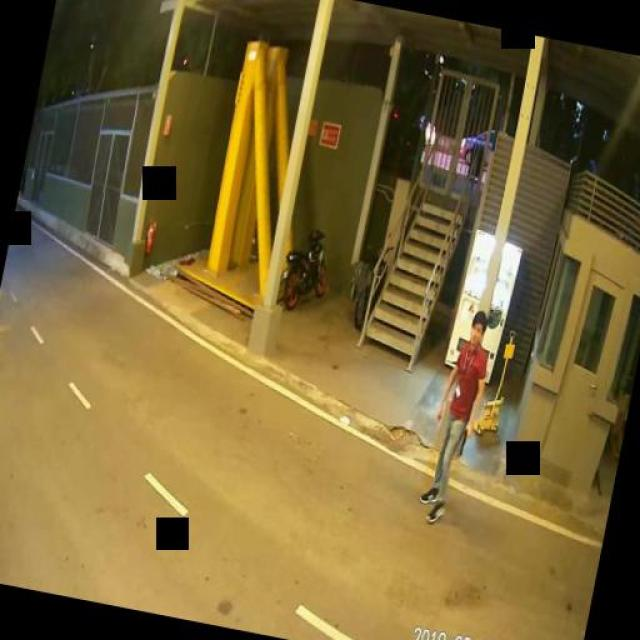gun: (458, 424, 473, 456)
